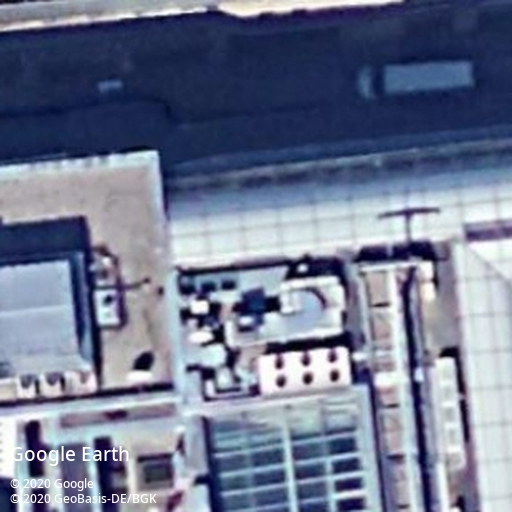Chiller: (255, 343, 354, 401)
